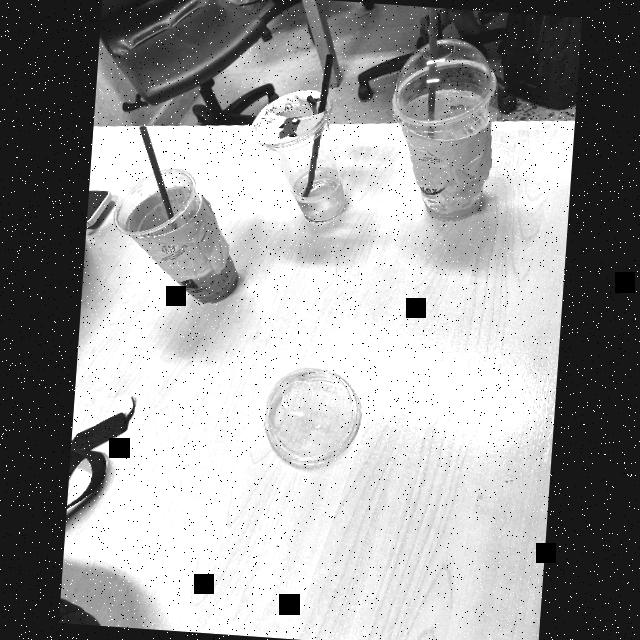plastic_cup: (106, 170, 255, 306), (388, 60, 502, 224), (238, 94, 360, 233)
plastic_cup_lid: (250, 354, 374, 484), (378, 30, 498, 134)
straw: (126, 112, 188, 212), (406, 7, 454, 134), (305, 48, 337, 193)
